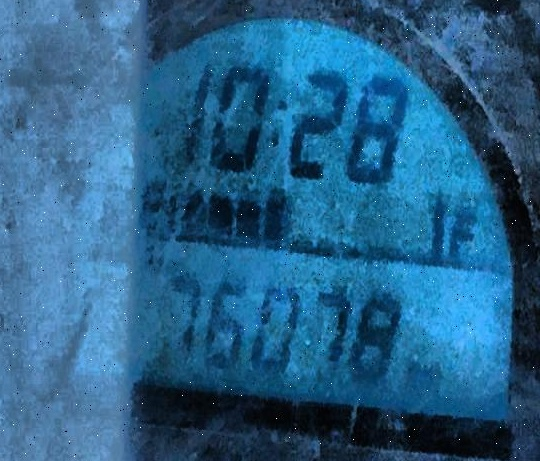0: (216, 58, 268, 173), (250, 283, 299, 384)
1: (179, 57, 213, 164)
2: (289, 61, 348, 183)
6: (207, 275, 248, 376)
7: (312, 281, 350, 382), (161, 269, 200, 359)
8: (348, 73, 409, 186), (349, 280, 400, 389)
X: (137, 173, 168, 234), (268, 82, 291, 164), (449, 205, 478, 257)
